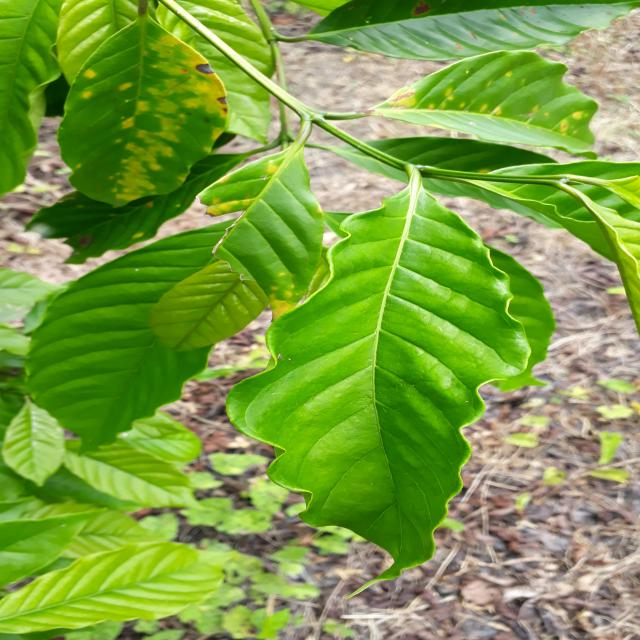Sanas: (225, 171, 556, 578)
